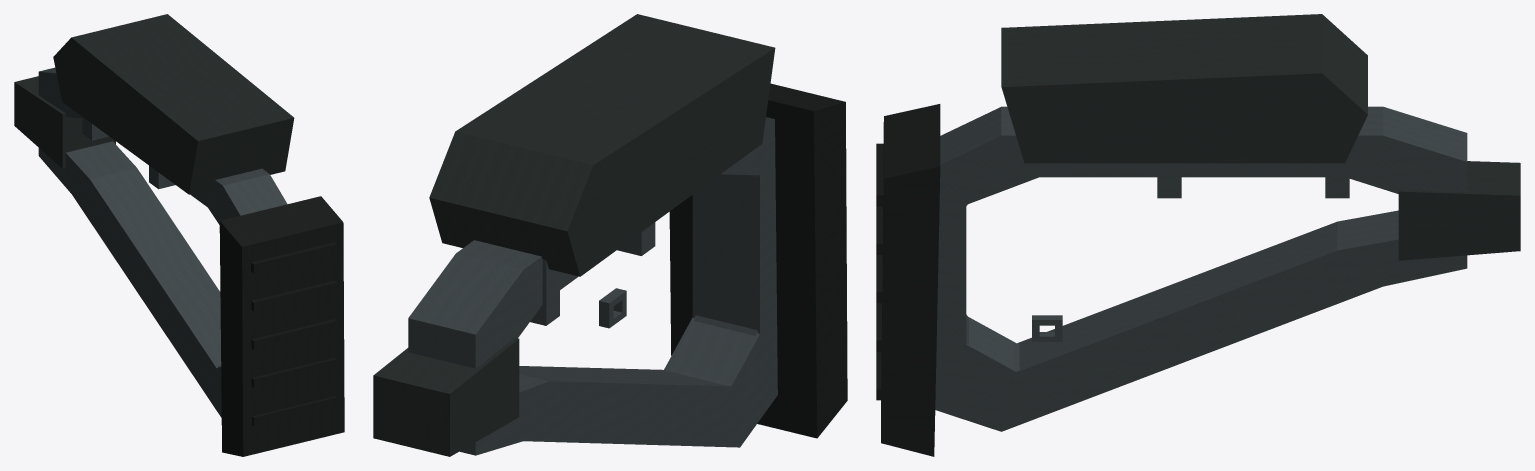
Rendered from ak_cheek.glb.
3 renders of one model, left to right at view 1: azimuth 30°, elevation 25°; view 2: azimuth 150°, elevation 25°; view 3: azimuth 270°, elevation 25°, orthographic. The views are drawn at different scales.
Parts seen in each view (by area): view 1: ak_cheek_buttpad, ak_cheek_raised_cheek.001, ak_cheek_raised_cheek, ak_cheek_open_stock, ak_cheek_open_stock.001, ak_cheek_buttpad.001; view 2: ak_cheek_raised_cheek.001, ak_cheek_raised_cheek, ak_cheek_open_stock, ak_cheek_buttpad, ak_cheek_open_stock.001, ak_cheek_buttpad.001; view 3: ak_cheek_raised_cheek, ak_cheek_open_stock, ak_cheek_open_stock.001, ak_cheek_raised_cheek.001, ak_cheek_buttpad, ak_cheek_buttpad.001.
Part boxes in pixels (<box>): ak_cheek_buttpad: <box>220,198,342,454</box>; ak_cheek_raised_cheek.001: <box>14,14,294,194</box>; ak_cheek_raised_cheek: <box>15,15,291,191</box>; ak_cheek_open_stock: <box>40,68,285,415</box>; ak_cheek_open_stock.001: <box>38,67,287,417</box>; ak_cheek_buttpad.001: <box>219,196,344,456</box>; ak_cheek_raised_cheek.001: <box>373,14,775,456</box>; ak_cheek_raised_cheek: <box>375,16,772,454</box>; ak_cheek_open_stock: <box>411,120,777,451</box>; ak_cheek_buttpad: <box>672,84,847,435</box>; ak_cheek_open_stock.001: <box>408,117,777,455</box>; ak_cheek_buttpad.001: <box>669,83,847,438</box>; ak_cheek_raised_cheek: <box>1004,15,1519,259</box>; ak_cheek_open_stock: <box>935,115,1463,428</box>; ak_cheek_open_stock.001: <box>935,106,1467,431</box>; ak_cheek_raised_cheek.001: <box>1001,14,1520,260</box>; ak_cheek_buttpad: <box>876,105,939,454</box>; ak_cheek_buttpad.001: <box>881,104,940,456</box>.
Bounding box in the file's own units: 0.097 × 0.276 × 0.422.
Materials: 3 (3 with a texture image).
